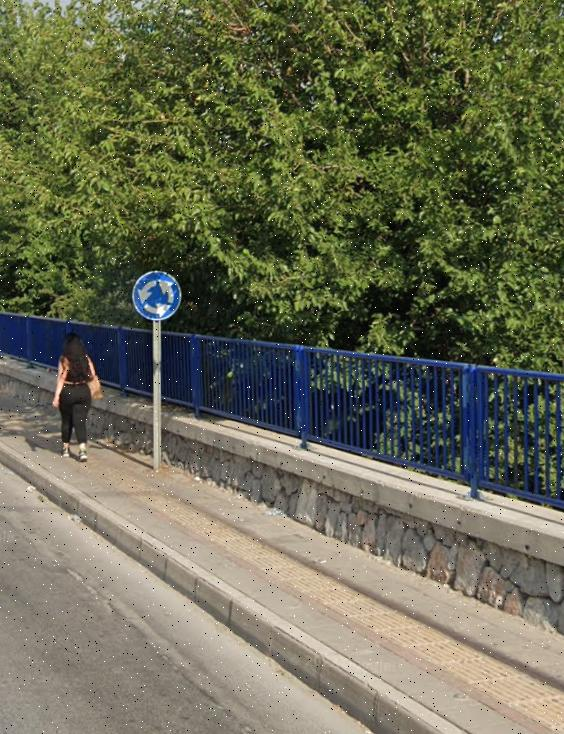crossroads: (129, 267, 185, 326)
